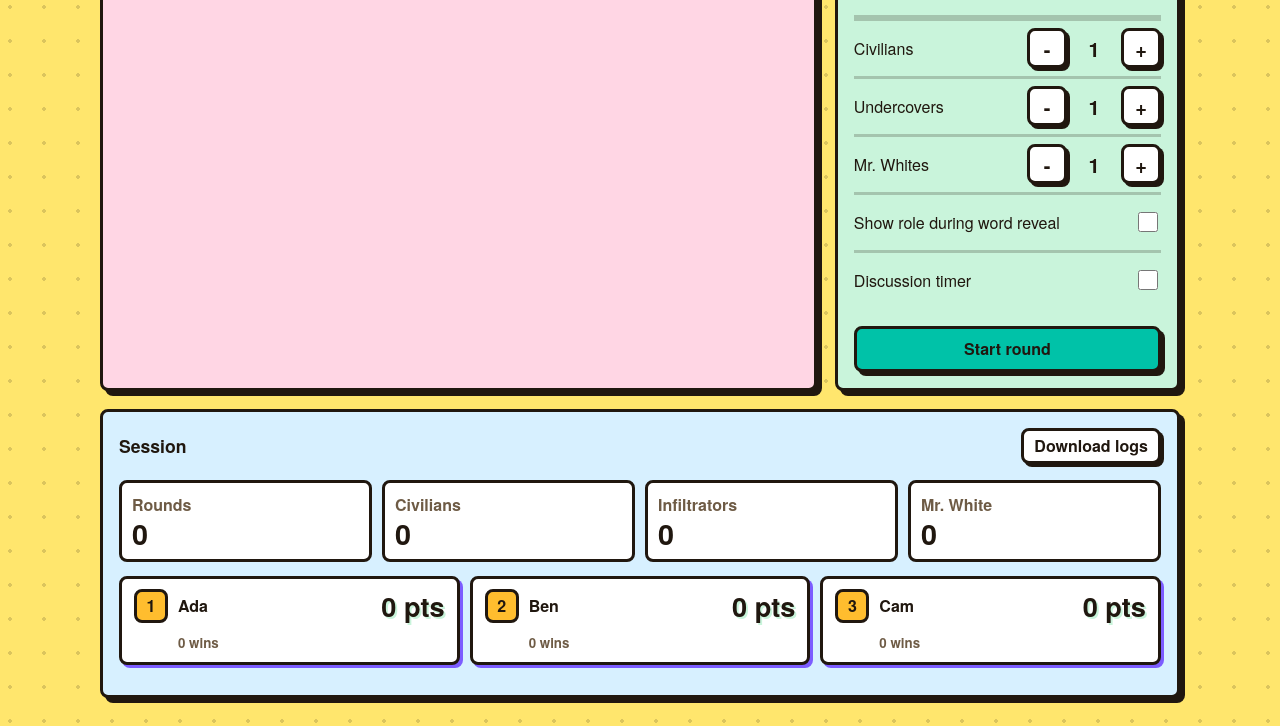
Test: App — round flow › transitions from setup to the private reveal when a round starts
(page scrolled)
Click the button "Start round": (1007, 349) [854, 326, 1161, 372]
(page scrolled)
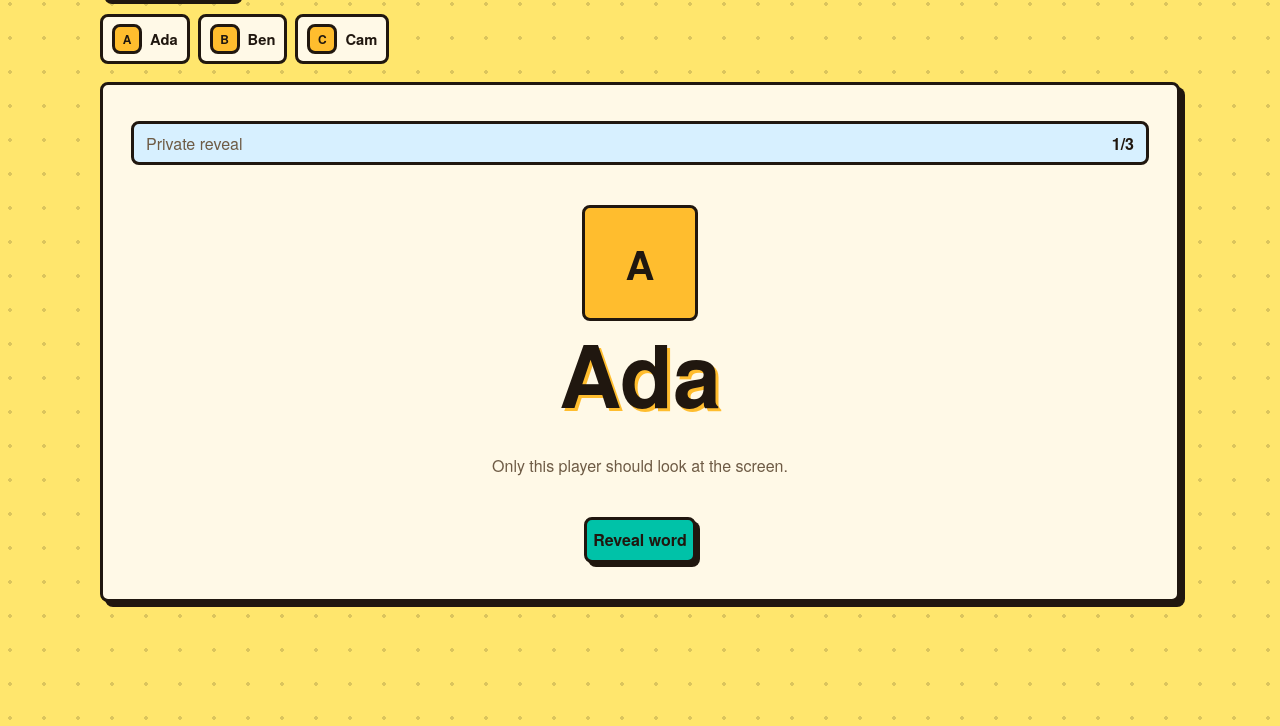
Expected: the text "Private reveal" is shown, [146, 132, 242, 155]
Expected: the text "1/3" is shown, [1112, 132, 1134, 155]
